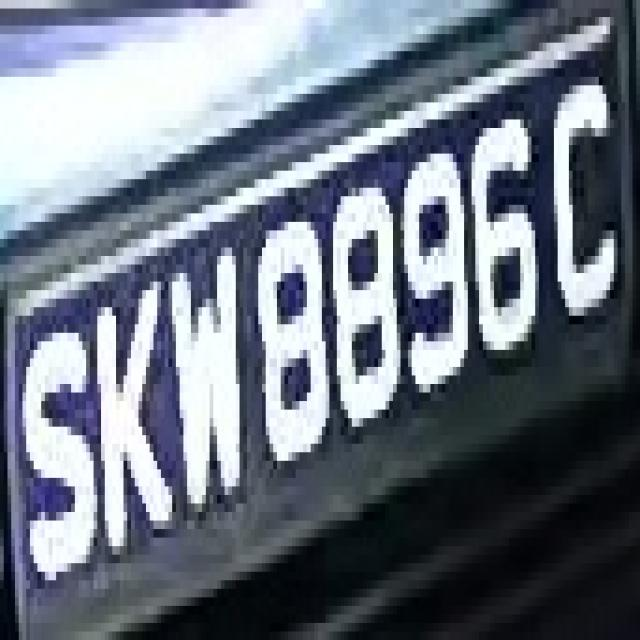6: (468, 102, 543, 367)
8: (247, 205, 337, 478), (329, 171, 412, 452)
9: (397, 120, 475, 410)
C: (539, 52, 617, 358)
K: (86, 282, 180, 572)
S: (15, 324, 94, 598)
W: (164, 248, 254, 520)
